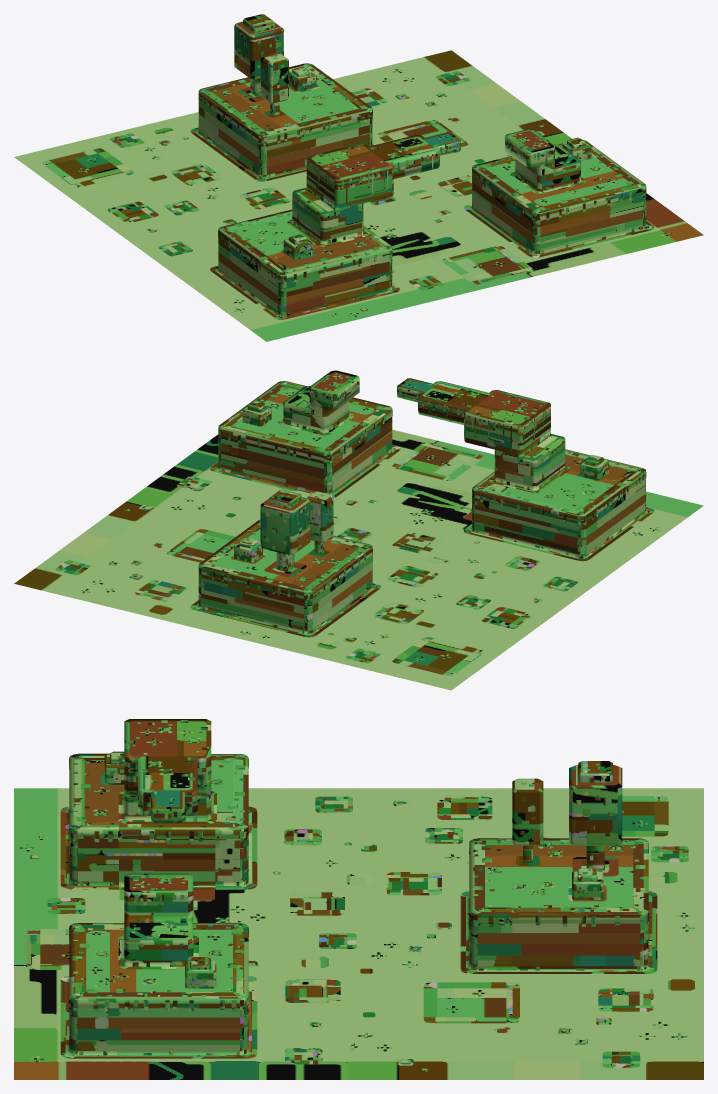
File: C_grass1_10.fbx
3 views of the same model, one above another, from view 1: azimuth 30°, elevation 25°; view 2: azimuth 150°, elevation 25°; view 3: azimuth 270°, elevation 25° (orthographic). The views are drawn at different scales.
Parts seen in each view (by area): view 1: C_grass1_10.001; view 2: C_grass1_10.001; view 3: C_grass1_10.001.
Boxes of the visible parts, box(x1,y1,x2,y2) form: C_grass1_10.001: box(14, 14, 703, 341); C_grass1_10.001: box(14, 370, 703, 690); C_grass1_10.001: box(14, 719, 703, 1079).
Bounding box in the file's own units: 50 × 12.68 × 50.
